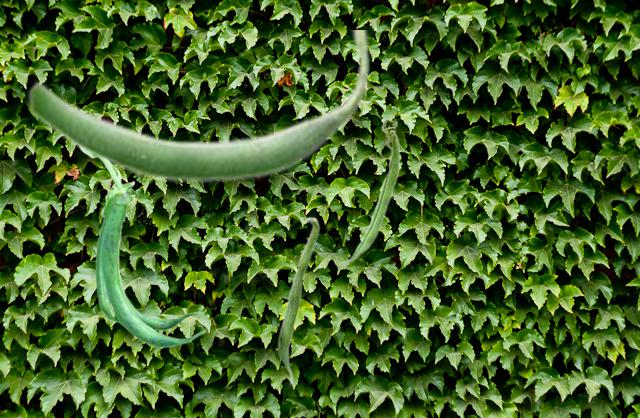french_bean: (27, 30, 370, 184), (82, 152, 205, 347), (337, 117, 399, 265), (277, 216, 319, 385)
